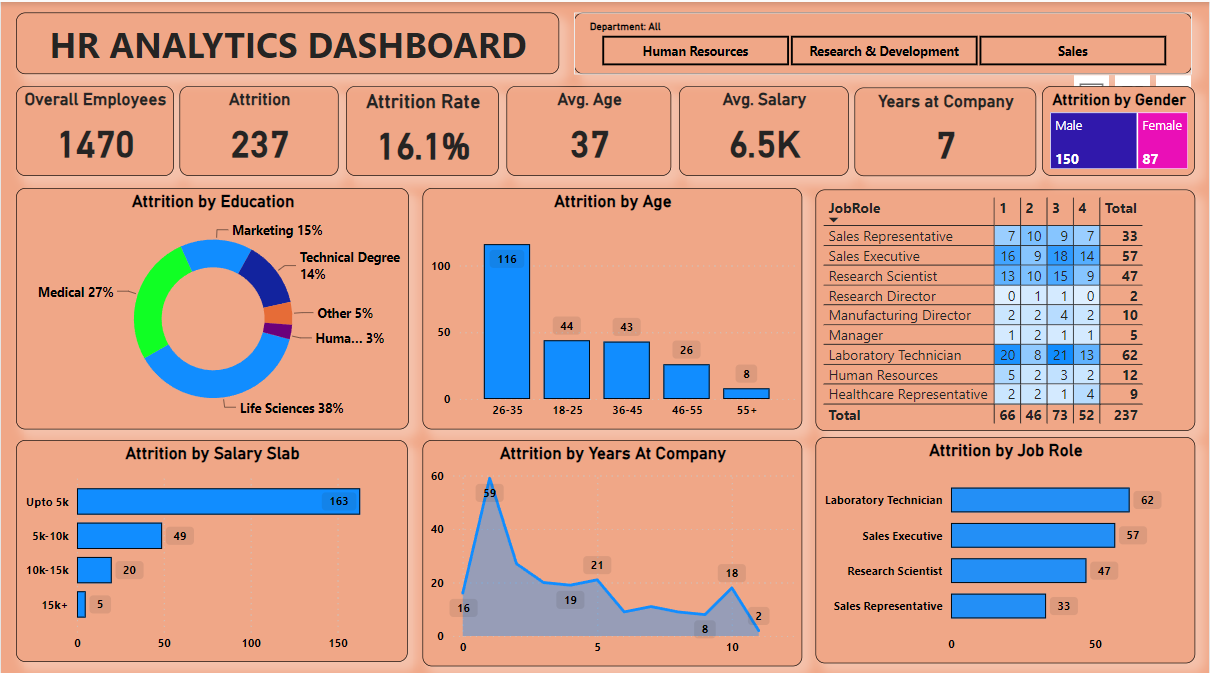

This screenshot's page, from the dashboard's own definition file:
{"tool":"powerbi","page":{"name":"Page 1","canvas":[1280,720],"ordinal":0},"visuals":[{"type":"card","title":"Overall Employees","fields":{"Values":["CountNonNull(HR_Analytics.EmpID)"]},"box":[15.9,89.1,167,95.4],"z":0},{"type":"card","title":"Attrition","fields":{"Values":["Sum(HR_Analytics.Attrition Count)"]},"box":[189.3,89.1,168.6,95.4],"z":1000},{"type":"card","title":"Attrition Rate","fields":{"Values":["HR_Analytics.Attrition rate"]},"box":[365.8,89.1,162.2,95.4],"z":2000},{"type":"card","title":"Avg. Age","fields":{"Values":["Avg(HR_Analytics.Age)"]},"box":[536,89.1,175,95.4],"z":3000},{"type":"card","title":"Avg. Salary","fields":{"Values":["Avg(HR_Analytics.MonthlyIncome)"]},"box":[719,89.1,179.7,95.4],"z":4000},{"type":"card","title":"Years at Company","fields":{"Values":["Avg(HR_Analytics.YearsAtCompany)"]},"box":[905.1,90.7,192.5,93.8],"z":5000},{"type":"textbox","box":[15.9,11.1,575.8,65.2],"z":6000},{"type":"donutChart","title":"Attrition by Education","fields":{"Category":["HR_Analytics.EducationField"],"Y":["Sum(HR_Analytics.Attrition Count)"]},"box":[15.9,197.2,416.7,256.1],"z":7000},{"type":"clusteredColumnChart","title":"Attrition by Age","fields":{"Y":["Sum(HR_Analytics.Attrition Count)"],"Category":["HR_Analytics.AgeGroup"]},"box":[447,197.2,402.4,256.1],"z":8000},{"type":"pivotTable","fields":{"Rows":["HR_Analytics.JobRole"],"Columns":["HR_Analytics.JobSatisfaction"],"Values":["Sum(HR_Analytics.Attrition Count)"]},"box":[863.7,198.8,402.4,256.1],"z":9000},{"type":"clusteredBarChart","title":"Attrition by Salary Slab","fields":{"Y":["Sum(HR_Analytics.Attrition Count)"],"Category":["HR_Analytics.SalarySlab"]},"box":[15.9,464.5,415.1,235.4],"z":10000},{"type":"areaChart","title":"Attrition by Years At Company","fields":{"Category":["HR_Analytics.YearsAtCompany"],"Y":["Sum(HR_Analytics.Attrition Count)"]},"box":[447,464.5,402.4,240.2],"z":11000},{"type":"barChart","title":"Attrition by Job Role","fields":{"Y":["Sum(HR_Analytics.Attrition Count)"],"Category":["HR_Analytics.JobRole"]},"box":[863.7,461.3,402.4,240.2],"z":12000},{"type":"slicer","fields":{"Values":["HR_Analytics.Department"]},"box":[607.6,11.1,655.3,65.2],"z":13000},{"type":"treemap","title":"Attrition by Gender","fields":{"Group":["HR_Analytics.Gender"],"Values":["Sum(HR_Analytics.Attrition Count)"]},"box":[1104.2,89.1,162.2,95.4],"z":14000}]}

Visuals, with their boxes in screenshot pixels (x1, y1, x2, y2), scaled from the page's 1280x720 canvas onto the 1210x673 screenshot:
"Overall Employees" card: (15, 83, 173, 172)
"Attrition" card: (179, 83, 338, 172)
"Attrition Rate" card: (346, 83, 499, 172)
"Avg. Age" card: (507, 83, 672, 172)
"Avg. Salary" card: (680, 83, 850, 172)
"Years at Company" card: (856, 85, 1038, 172)
textbox: (15, 10, 559, 71)
"Attrition by Education" donutChart: (15, 184, 409, 424)
"Attrition by Age" clusteredColumnChart: (423, 184, 803, 424)
pivotTable - HR_Analytics.JobRole x HR_Analytics.JobSatisfaction: (816, 186, 1197, 425)
"Attrition by Salary Slab" clusteredBarChart: (15, 434, 407, 654)
"Attrition by Years At Company" areaChart: (423, 434, 803, 659)
"Attrition by Job Role" barChart: (816, 431, 1197, 656)
slicer - HR_Analytics.Department: (574, 10, 1194, 71)
"Attrition by Gender" treemap: (1044, 83, 1197, 172)
